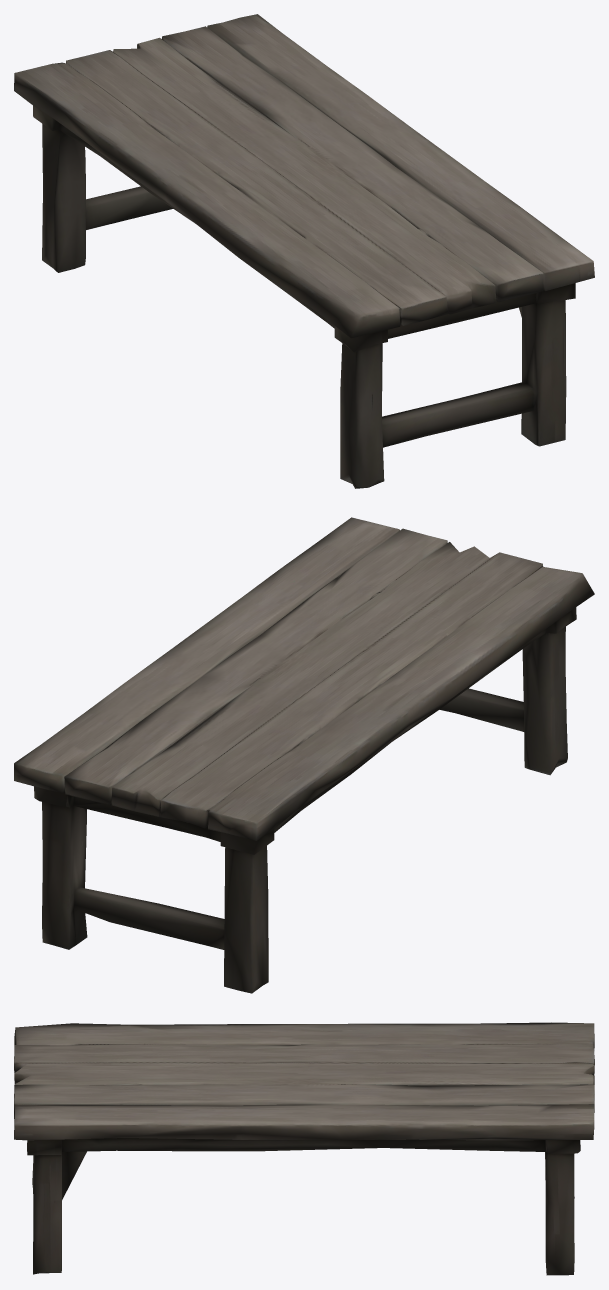
File: wooden+table+3d+model (3).glb
The picture shows the model from 3 angles, top to bottom: view 1: azimuth 30°, elevation 25°; view 2: azimuth 150°, elevation 25°; view 3: azimuth 270°, elevation 25°; orthographic projection. The views are drawn at different scales.
Visible parts, largest first — view 1: tripo_node_2c0c4ef0-53d9-43f0-8fd9-550710ab5014; view 2: tripo_node_2c0c4ef0-53d9-43f0-8fd9-550710ab5014; view 3: tripo_node_2c0c4ef0-53d9-43f0-8fd9-550710ab5014.
Part boxes in pixels (<box>): tripo_node_2c0c4ef0-53d9-43f0-8fd9-550710ab5014: <box>14,14,594,488</box>; tripo_node_2c0c4ef0-53d9-43f0-8fd9-550710ab5014: <box>14,517,594,993</box>; tripo_node_2c0c4ef0-53d9-43f0-8fd9-550710ab5014: <box>14,1022,594,1275</box>.
Bounding box in the file's own units: 0.4179 × 0.3022 × 1.
1 material, 1 textured.
